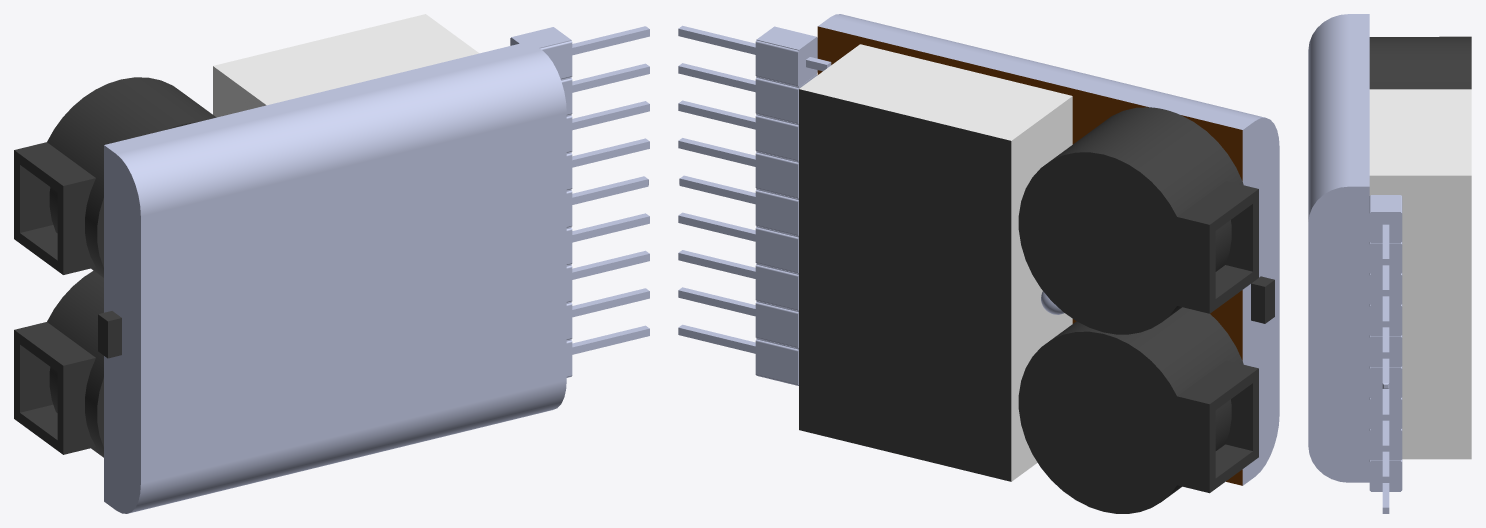
Rendered from charge_indicator.fbx.
3 renders of one model, left to right at view 1: azimuth 30°, elevation 25°; view 2: azimuth 150°, elevation 25°; view 3: azimuth 270°, elevation 25°, orthographic. The views are drawn at different scales.
Parts seen in each view (by area): view 1: Baterijas testeris, Baterijas testeris009, Baterijas testeris008, Baterijas testeris006, Baterijas testeris007, Baterijas testeris002, Baterijas testeris003, Baterijas testeris004, Baterijas testeris005, Baterijas testeris001; view 2: Baterijas testeris, Baterijas testeris009, Baterijas testeris008, Baterijas testeris003, Baterijas testeris005, Baterijas testeris002, Baterijas testeris006, Baterijas testeris007, Baterijas testeris004, Baterijas testeris001; view 3: Baterijas testeris, Baterijas testeris009, Baterijas testeris002, Baterijas testeris003, Baterijas testeris006, Baterijas testeris004, Baterijas testeris007, Baterijas testeris008, Baterijas testeris005, Baterijas testeris001.
Part boxes in pixels (x1,y1,x2,y2): Baterijas testeris: [14, 14, 566, 513]; Baterijas testeris009: [510, 26, 649, 79]; Baterijas testeris008: [561, 63, 649, 115]; Baterijas testeris006: [566, 138, 649, 190]; Baterijas testeris007: [566, 101, 649, 153]; Baterijas testeris002: [566, 213, 649, 265]; Baterijas testeris003: [566, 250, 649, 302]; Baterijas testeris004: [566, 288, 649, 340]; Baterijas testeris005: [566, 325, 649, 377]; Baterijas testeris001: [566, 176, 648, 227]; Baterijas testeris: [799, 14, 1279, 513]; Baterijas testeris009: [678, 25, 831, 86]; Baterijas testeris008: [678, 63, 817, 124]; Baterijas testeris003: [678, 250, 798, 311]; Baterijas testeris005: [678, 324, 798, 385]; Baterijas testeris002: [678, 212, 798, 273]; Baterijas testeris006: [678, 138, 798, 199]; Baterijas testeris007: [678, 100, 798, 161]; Baterijas testeris004: [678, 287, 798, 348]; Baterijas testeris001: [679, 175, 798, 236]; Baterijas testeris: [1308, 14, 1471, 482]; Baterijas testeris009: [1369, 195, 1402, 265]; Baterijas testeris002: [1369, 366, 1402, 420]; Baterijas testeris003: [1369, 397, 1402, 451]; Baterijas testeris006: [1369, 304, 1402, 358]; Baterijas testeris004: [1369, 428, 1402, 482]; Baterijas testeris007: [1369, 273, 1402, 327]; Baterijas testeris008: [1369, 242, 1402, 296]; Baterijas testeris005: [1369, 459, 1402, 513]; Baterijas testeris001: [1369, 335, 1402, 388].
Bounding box in the file's own units: 4100 × 2410 × 1200.
